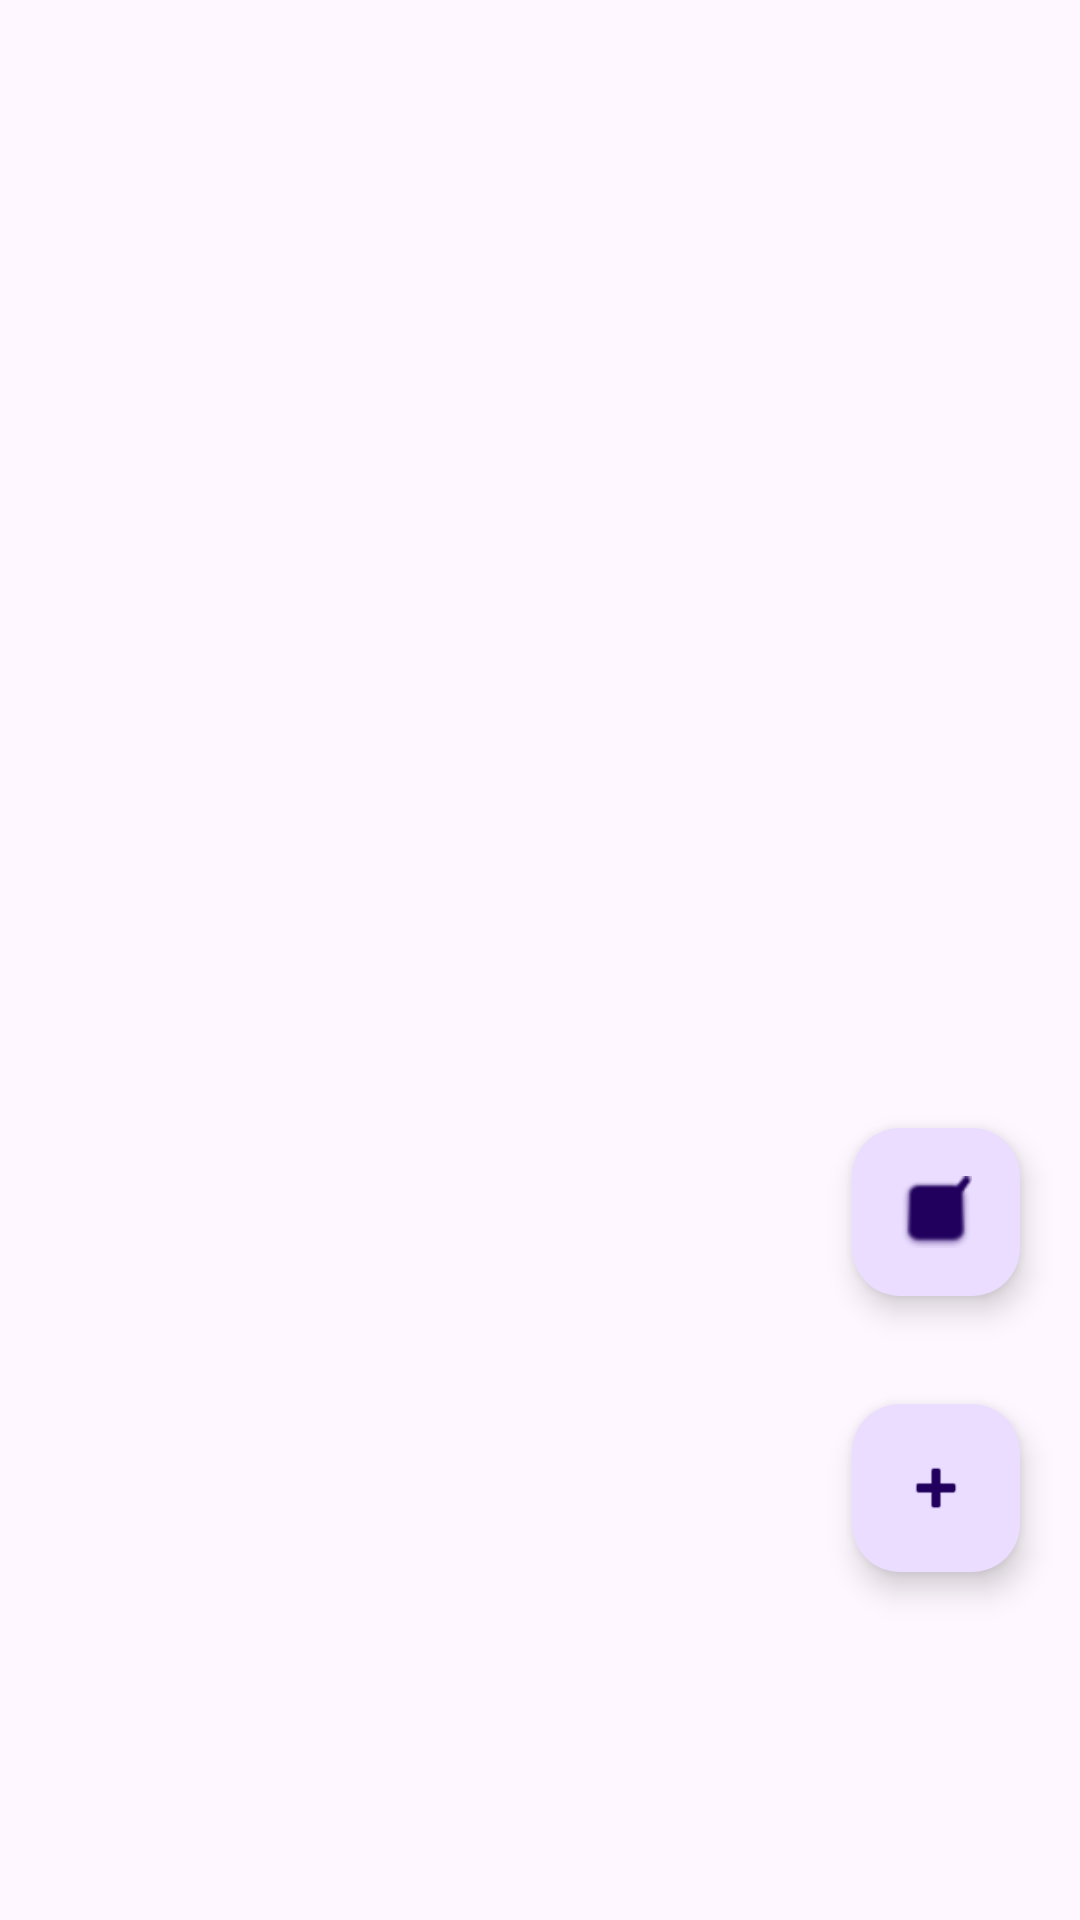

Named icons in this screenshot (1080*1920) and their bounding boxes, (x1, y1, x2, y2):
add: (852, 1404, 1020, 1572)
